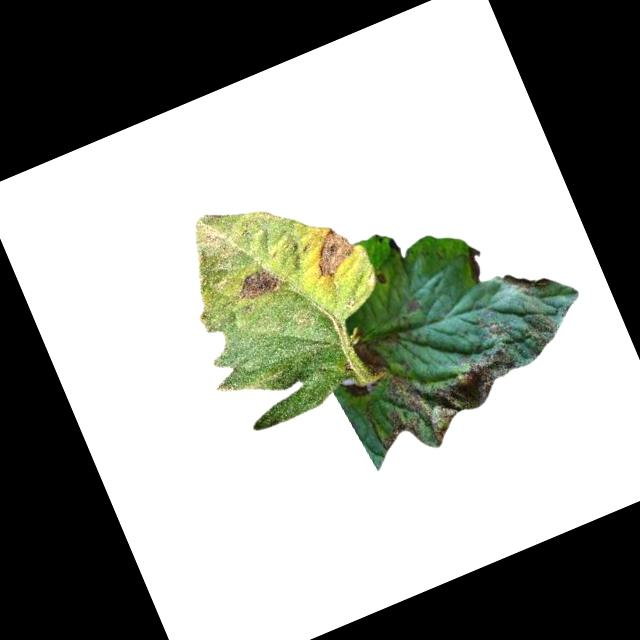Early_blight: (356, 329, 534, 469), (300, 221, 360, 283), (232, 261, 285, 305), (500, 260, 552, 302), (458, 240, 494, 285), (356, 336, 392, 377), (372, 273, 388, 289)
